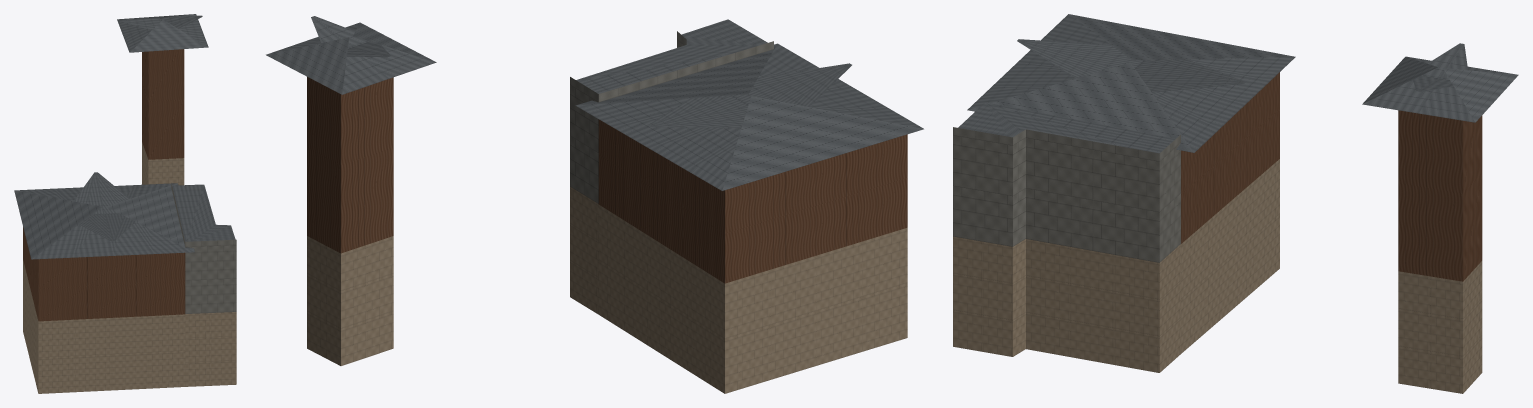
The model's file is bld_c5_7_494.gltf.
3 views of the same model, side by side, from view 1: azimuth 30°, elevation 25°; view 2: azimuth 150°, elevation 25°; view 3: azimuth 270°, elevation 25° (orthographic). The views are drawn at different scales.
Visible parts, largest first — view 1: bld_c5_7_494; view 2: bld_c5_7_494; view 3: bld_c5_7_494.
Boxes of the visible parts, bbox=[...] form: bld_c5_7_494: bbox=[14, 14, 236, 393]; bld_c5_7_494: bbox=[266, 16, 923, 393]; bld_c5_7_494: bbox=[953, 14, 1518, 393].
Size of the model in its own units: 21.54 by 15.6 by 23.29.
5 materials, 5 textured.
